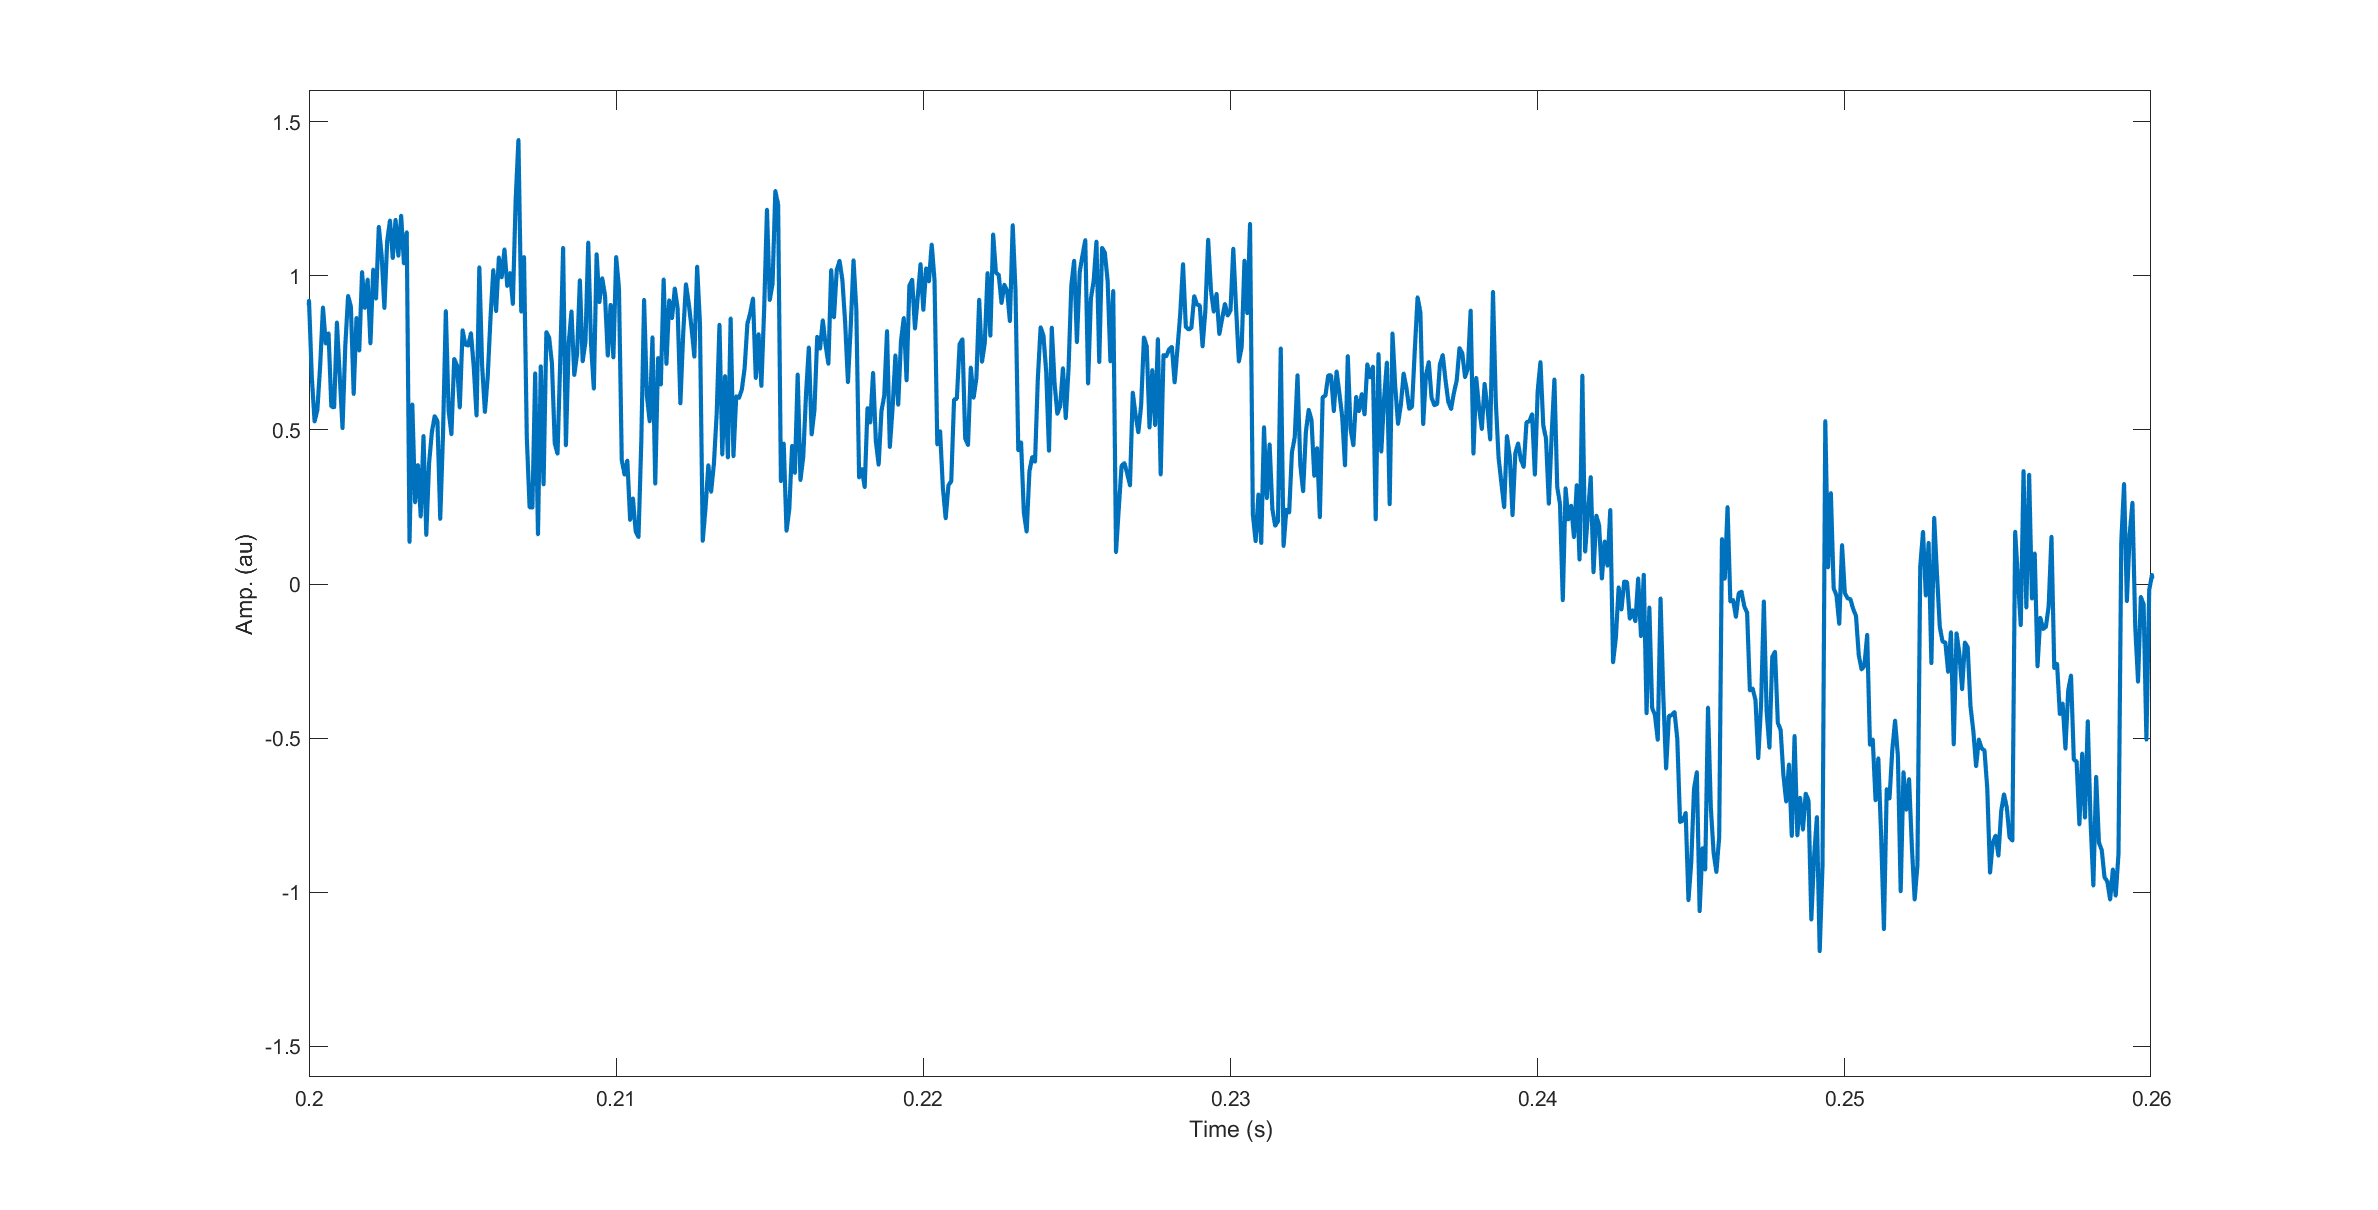negative_fringe: (1816, 400, 1901, 934), (2005, 455, 2099, 881), (1708, 489, 1805, 895), (1910, 505, 1992, 891)
positive_fringe: (431, 127, 535, 551), (1137, 208, 1265, 539), (316, 201, 420, 509), (1045, 222, 1128, 551), (961, 210, 1032, 548), (719, 182, 785, 536), (552, 227, 631, 515), (873, 235, 947, 529), (640, 252, 707, 542), (795, 245, 867, 502)
